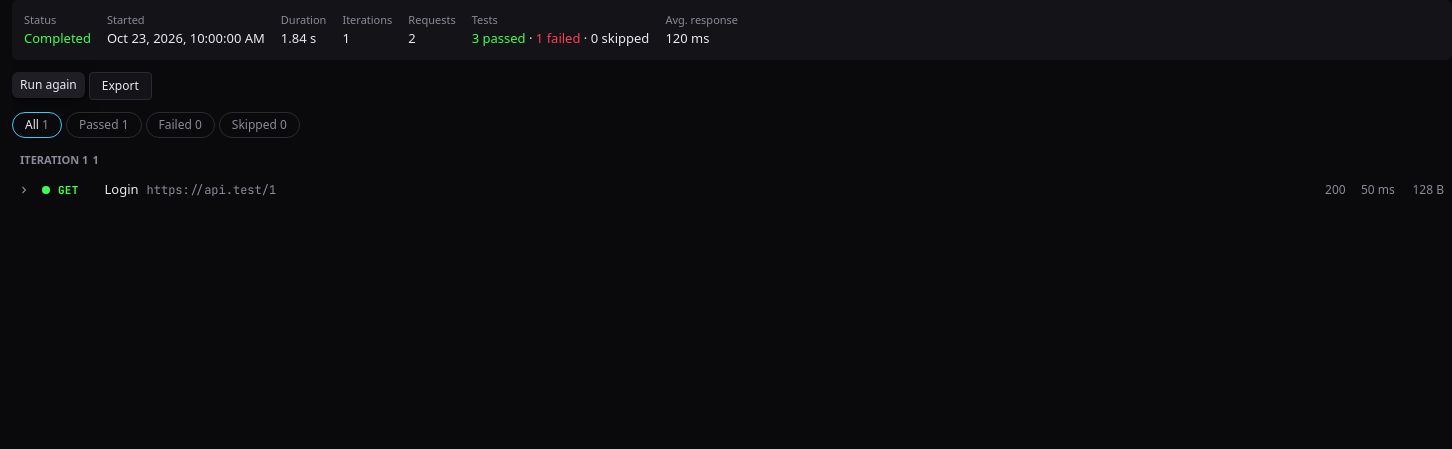
Test case: RunResults › shows a persisted response through the response viewer, keyed by the run response key
Click the button "Login". click: (122, 190)
box: [104,180,139,200]
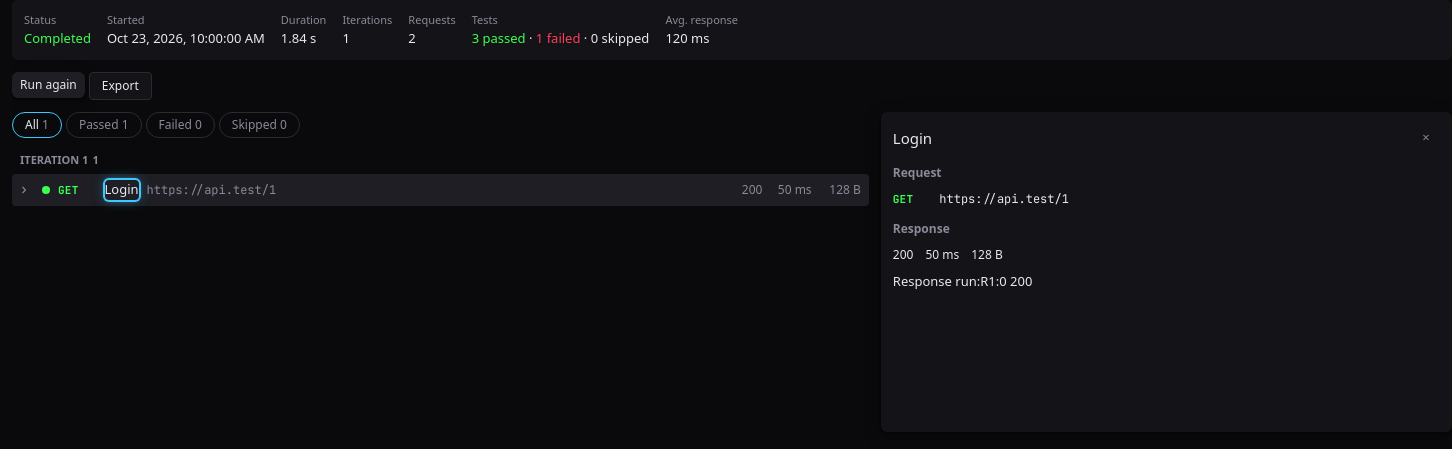
Expected: the text "Response run:R1:0 200" is shown, [893,272,1032,290]
